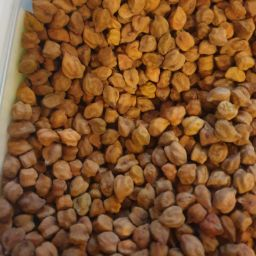Black Chickpeas: (23, 3, 256, 256), (46, 14, 249, 205), (8, 86, 166, 255)
